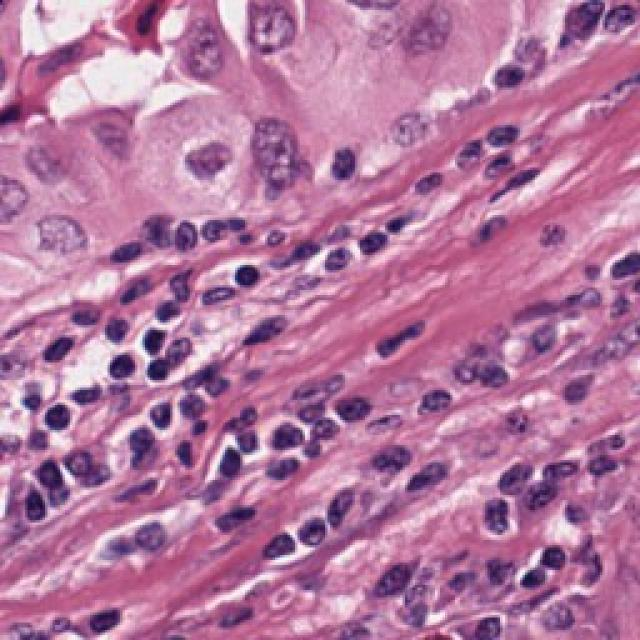abnormal: (235, 101, 334, 189), (153, 0, 238, 95), (74, 87, 151, 178), (166, 124, 243, 206), (232, 0, 312, 69), (12, 136, 82, 208), (26, 205, 101, 270), (393, 0, 465, 65), (383, 101, 457, 157)
